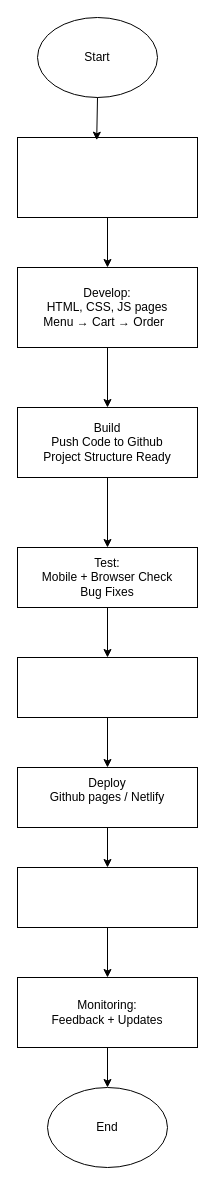
Some shapes in this 215 by 1185 pixel diagram are drawn without their labels. Here are the shapes that lost their labels. From the top down, the centre of each, then its label:
(107,177): Plan: Idea: Online Food App ( Zomato Sytle) Features: Menu, Cart, Oder
(107,687): Release: Final Version Readme + Setup Info
(107,897): Operate: Site Monitoring
